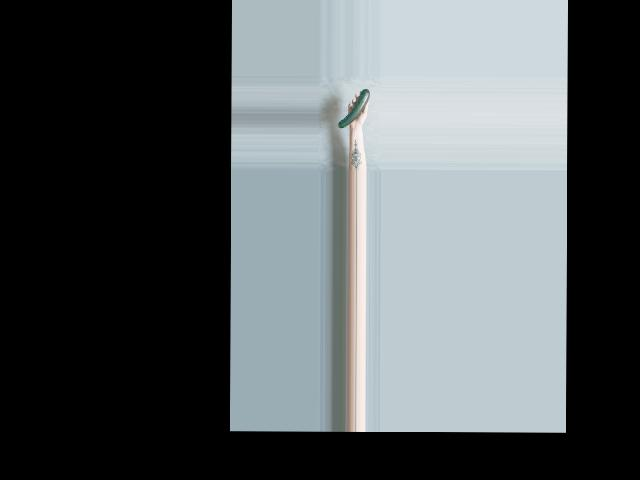cucumber: (337, 88, 369, 127)
